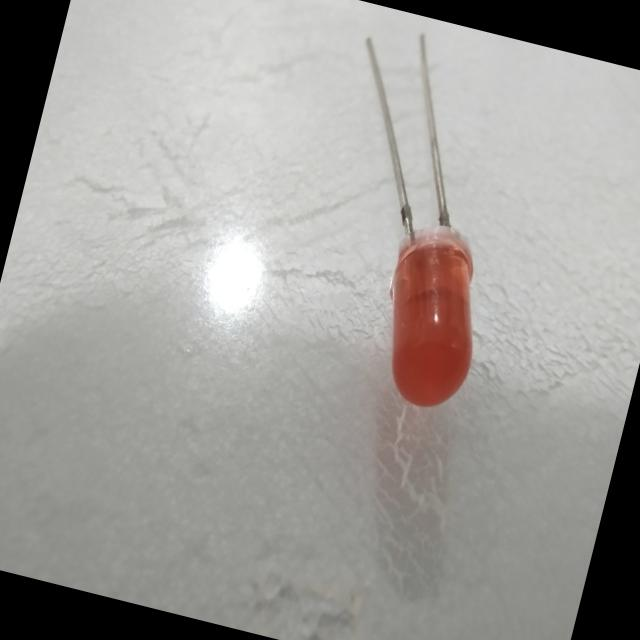red_led: (336, 198, 529, 435)
